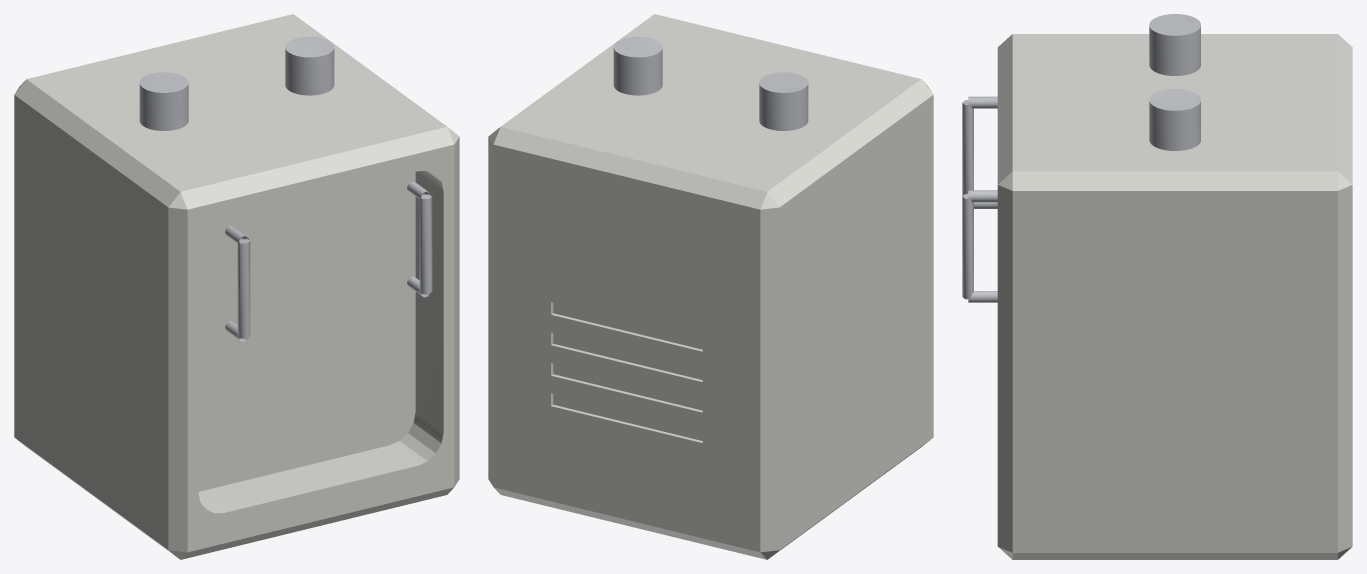
The model's file is ax_power_10_fuel_cell_small.glb.
3 renders of one model, left to right at view 1: azimuth 30°, elevation 25°; view 2: azimuth 150°, elevation 25°; view 3: azimuth 270°, elevation 25°, orthographic. The views are drawn at different scales.
Parts seen in each view (by area): view 1: slot_housing, connectors, handles; view 2: slot_housing, connectors; view 3: slot_housing, connectors, handles.
Boxes of the visible parts, x1,y1,x2,y2 form: slot_housing: [14, 14, 459, 559]; connectors: [139, 36, 334, 130]; handles: [225, 181, 432, 341]; slot_housing: [488, 14, 933, 559]; connectors: [613, 36, 808, 130]; slot_housing: [997, 34, 1352, 559]; connectors: [1149, 14, 1200, 150]; handles: [962, 96, 997, 302].
Bounding box in the file's own units: 0.48 × 0.64 × 0.528.
2 materials, 1 textured.
